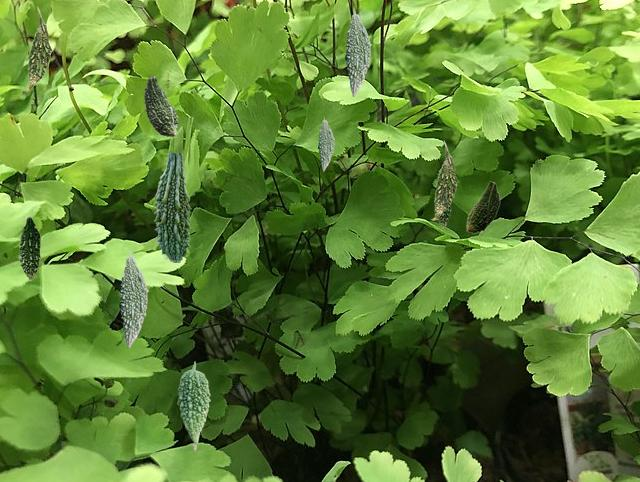ampalaya: (153, 153, 190, 261), (177, 361, 209, 450), (119, 248, 147, 347), (24, 6, 51, 90), (345, 6, 370, 95), (431, 140, 457, 219), (144, 75, 177, 135), (466, 181, 499, 232), (19, 215, 41, 280), (434, 176, 451, 227), (318, 115, 333, 170)
